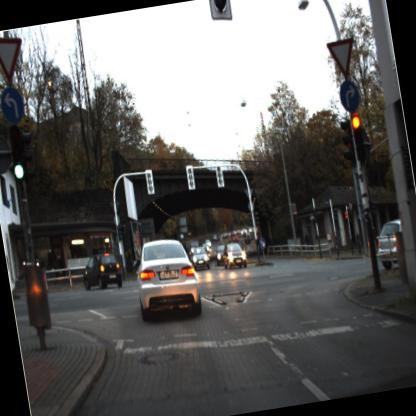mandatory: (0, 83, 32, 130), (333, 73, 363, 116)
other: (324, 31, 360, 80), (0, 29, 29, 87)
